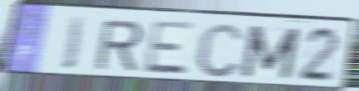2: (296, 26, 342, 85)
C: (193, 20, 246, 80)
E: (141, 19, 198, 77)
I: (60, 14, 89, 72)
M: (238, 24, 303, 81)
R: (92, 19, 146, 72)
